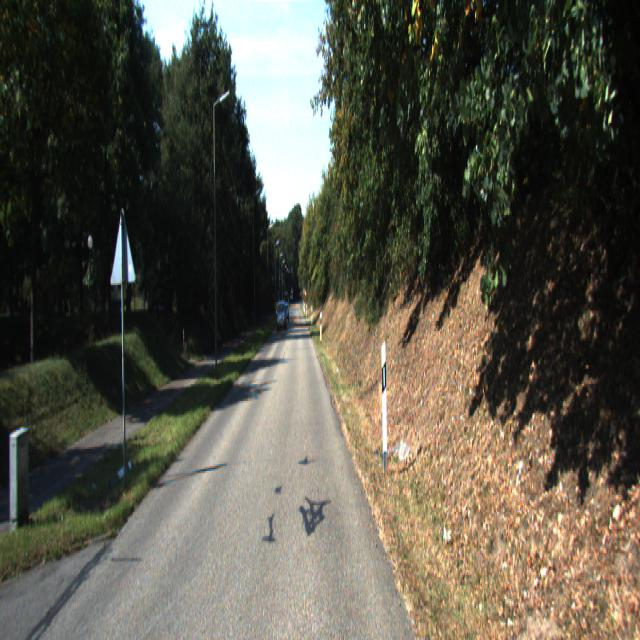Car: (276, 300, 286, 331)
